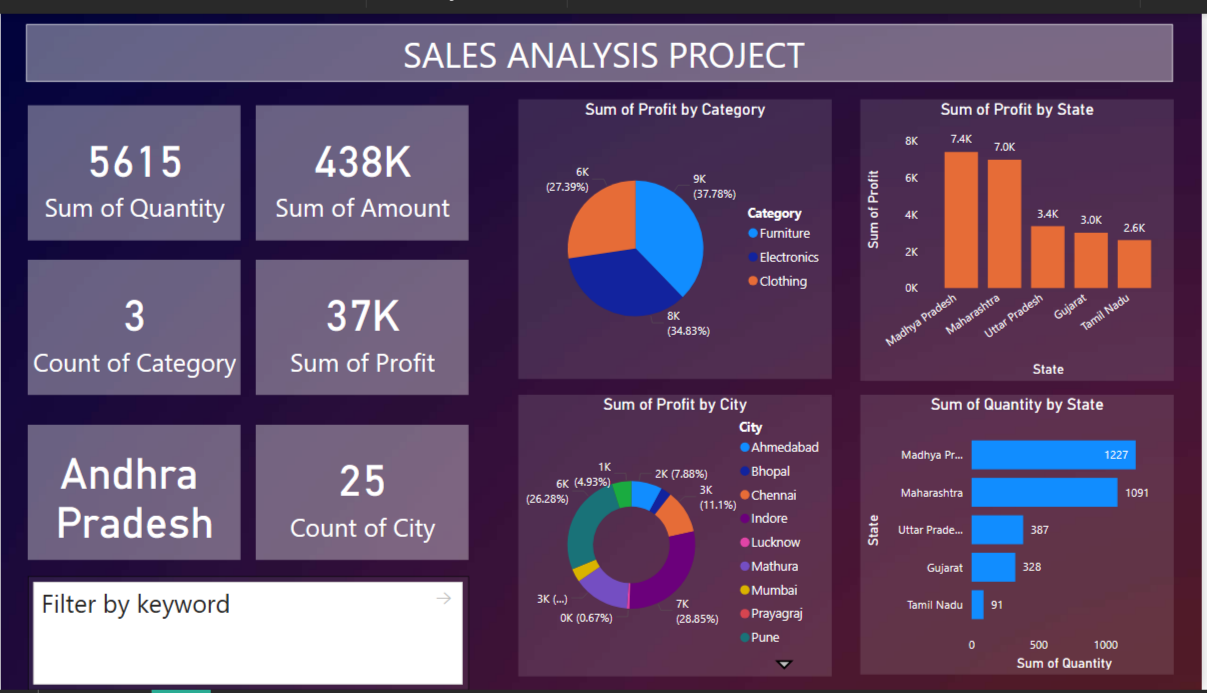

The page's visual inventory and layout, read from the dashboard file:
{"tool":"powerbi","page":{"name":"Page 1","canvas":[1280,720],"ordinal":0},"visuals":[{"type":"columnChart","fields":{"Category":["Orders.State"],"Y":["Sum(Details.Profit)"]},"box":[915.4,91.1,334.2,299.7],"z":0},{"type":"barChart","fields":{"Category":["Orders.State"],"Y":["Sum(Details.Quantity)"]},"box":[915.4,405.1,334.2,297.7],"z":1000},{"type":"pieChart","fields":{"Category":["Details.Category"],"Y":["Sum(Details.Profit)"]},"box":[550.9,91.1,334.2,297.7],"z":2000},{"type":"donutChart","fields":{"Y":["Sum(Details.Profit)"],"Series":["Orders.City"]},"box":[550.9,405.1,334.2,299.7],"z":3000},{"type":"card","fields":{"Values":["Sum(Details.Amount)"]},"box":[271.6,97.5,226.9,143.8],"z":4000},{"type":"card","fields":{"Values":["Sum(Details.Profit)"]},"box":[271.4,261.3,226.8,143.8],"z":5000},{"type":"card","fields":{"Values":["Count(Orders.City)"]},"box":[271.4,437.5,226.8,143.8],"z":6000},{"type":"card","fields":{"Values":["Sum(Details.Quantity)"]},"box":[28.4,97.2,226.8,143.8],"z":7000},{"type":"card","fields":{"Values":["Count(Details.Category)"]},"box":[28.4,261.3,226.8,143.8],"z":8000},{"type":"card","fields":{"Values":["Min(Orders.State)"]},"box":[28.4,437.5,226.8,143.8],"z":9000},{"type":"textSlicer","fields":{"Values":["Orders.State"]},"box":[28.4,599.5,469.9,121.5],"z":10000},{"type":"textbox","box":[27.6,11,1222.1,80],"z":11000}]}

Visuals, with their boxes in screenshot pixels (x1, y1, x2, y2), scaled from the page's 1280x720 canvas onto the 1207x693 screenshot:
columnChart - Orders.State x Sum(Details.Profit): 863:88:1178:376
barChart - Orders.State x Sum(Details.Quantity): 863:390:1178:676
pieChart - Details.Category x Sum(Details.Profit): 519:88:835:374
donutChart - Sum(Details.Profit) x Orders.City: 519:390:835:678
card - Sum(Details.Amount): 256:94:470:232
card - Sum(Details.Profit): 256:252:470:390
card - Count(Orders.City): 256:421:470:560
card - Sum(Details.Quantity): 27:94:241:232
card - Count(Details.Category): 27:252:241:390
card - Min(Orders.State): 27:421:241:560
textSlicer - Orders.State: 27:577:470:692
textbox: 26:11:1178:88
